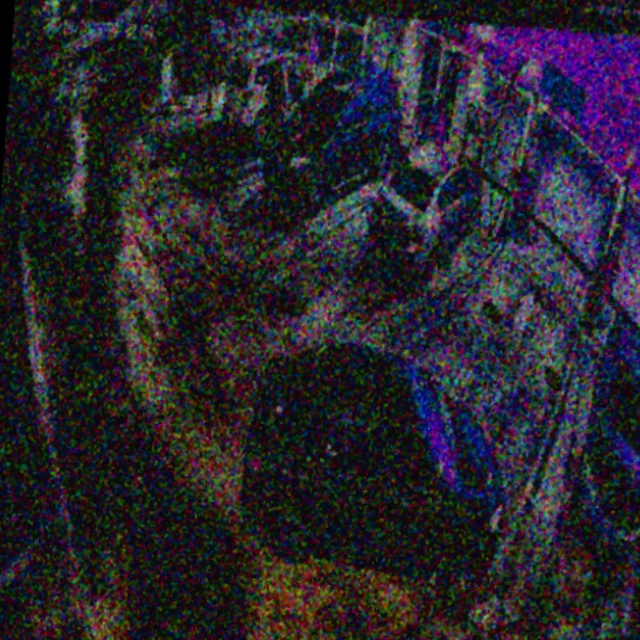Car: (232, 331, 520, 601), (258, 60, 406, 220), (366, 134, 488, 279)
